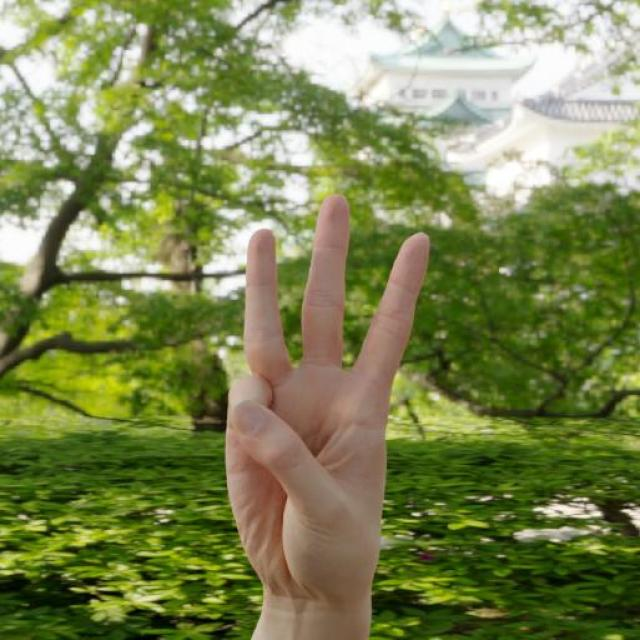W: (205, 190, 437, 640)
